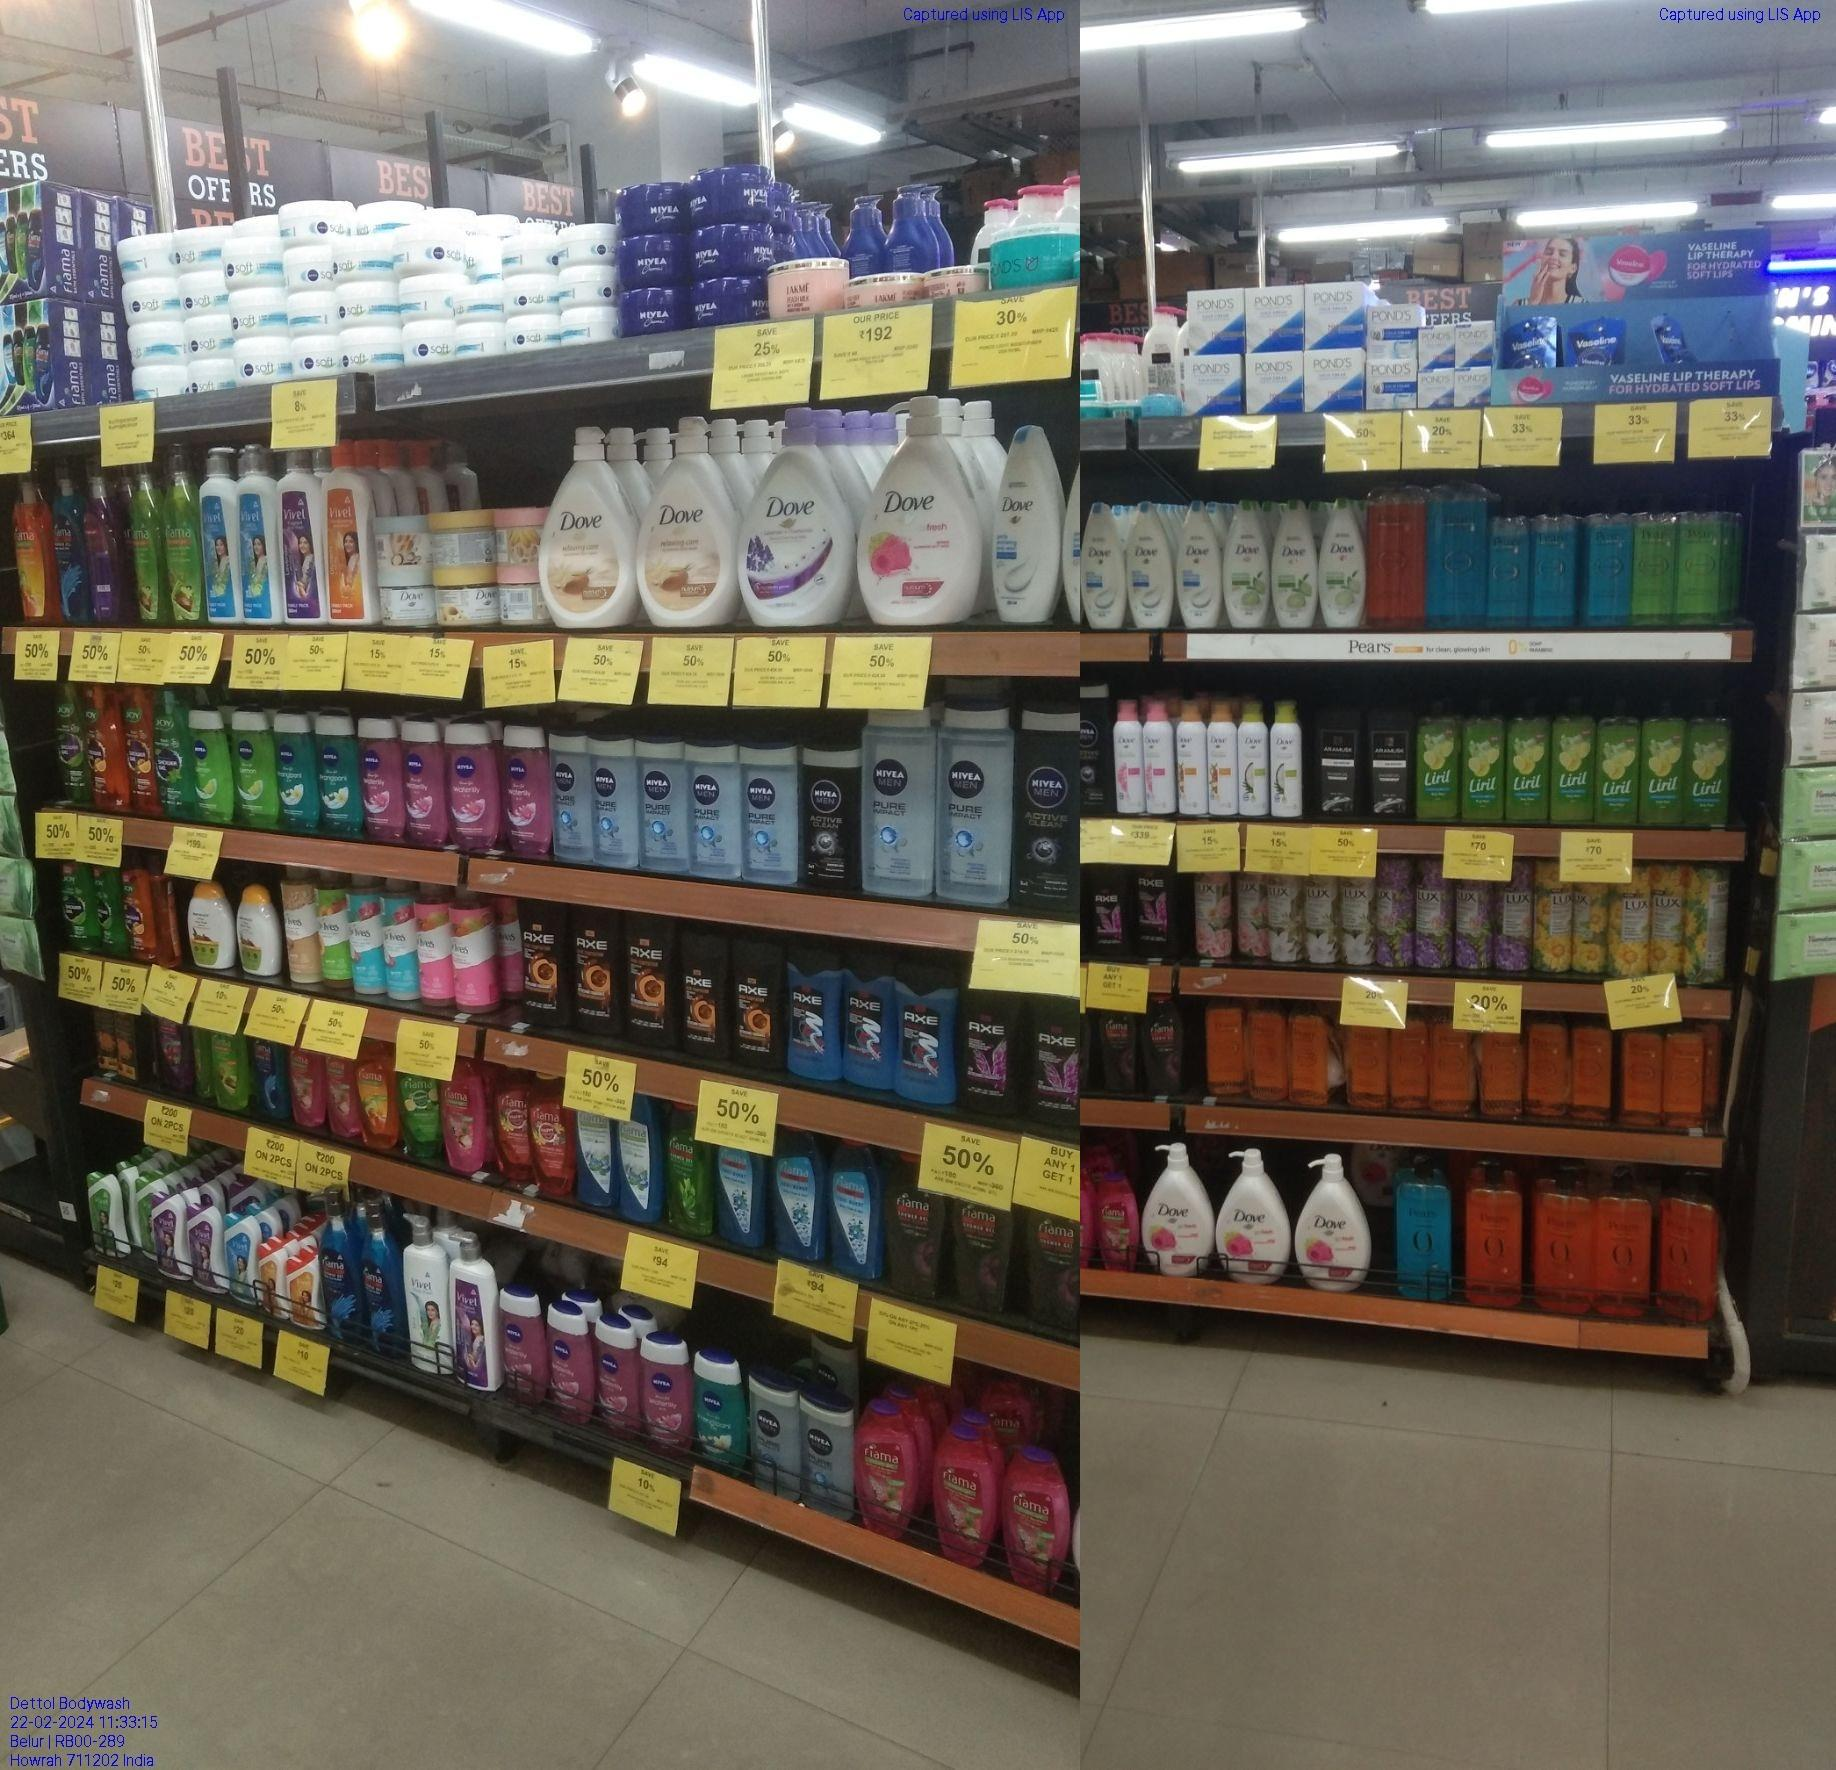Dove_Gentle_Exfoliating_Body_Wash_250ML: (993, 418, 1057, 619), (1175, 505, 1220, 631), (1129, 503, 1172, 631), (1080, 508, 1123, 629)
Dove_Refreshing_Body_Wash_250ML: (1318, 495, 1366, 628), (1223, 498, 1269, 628), (1274, 497, 1315, 628)
Fiama_Shower_Gel_Lemongrass_and_Jojoba_250ML: (211, 1024, 249, 1116)
Fiama_Shower_Gel_Patchouli_and_Macadamia_250ML: (1007, 1444, 1069, 1591), (936, 1418, 993, 1567), (856, 1393, 916, 1532), (1095, 1169, 1139, 1264), (441, 1080, 484, 1170), (289, 1046, 321, 1126), (326, 1052, 357, 1136)
Fiama_Shower_Gel_Peach_and_Avocado_250ML: (362, 1060, 397, 1150)
Joy_Shower_Gel_Mandarin_and_Lemongrass_250ML: (92, 682, 128, 810), (51, 682, 85, 805), (120, 864, 156, 962), (131, 682, 157, 815)
Joy_Shower_Gel_Mint_and_Eucalyptus_250ML: (161, 688, 192, 815)
Liril_Lime_and_Tea_Tree_Oil_Body_Wash_250ML: (1687, 693, 1731, 823), (1552, 690, 1593, 823), (1641, 698, 1684, 824), (1418, 695, 1461, 818), (1508, 692, 1547, 824), (1466, 693, 1505, 823), (1598, 695, 1638, 824)
Nivea_Shower_Gel_Frangipani_and_Oil_250ML: (698, 1352, 744, 1472), (321, 711, 359, 834), (282, 706, 315, 828)
Nivea_Shower_Gel_Lemon_and_Oil_250ML: (195, 711, 236, 823), (239, 713, 277, 823)
Nivea_Shower_Gel_Waterlily_and_Oil_250ML: (449, 718, 503, 854), (643, 1331, 692, 1450), (507, 724, 549, 859), (500, 1287, 548, 1406), (362, 716, 408, 839), (551, 1303, 595, 1423), (598, 1314, 639, 1429), (411, 721, 444, 841)
Pears_Pure_Glycerin_and_Lemon_Flower_Extracts_Body_Wash_250ML: (1677, 490, 1721, 626), (1634, 487, 1674, 629)
Pears_Pure_Glycerin_and_Mint_Extracts_Body_Wash_250ML: (1398, 1164, 1454, 1303), (1529, 497, 1580, 628), (1587, 498, 1628, 629), (1490, 497, 1523, 626)
